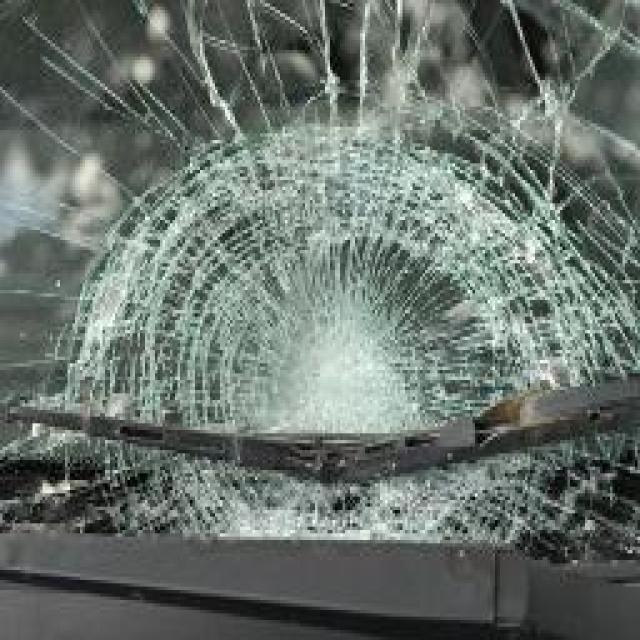Windshield: (0, 0, 635, 547)
